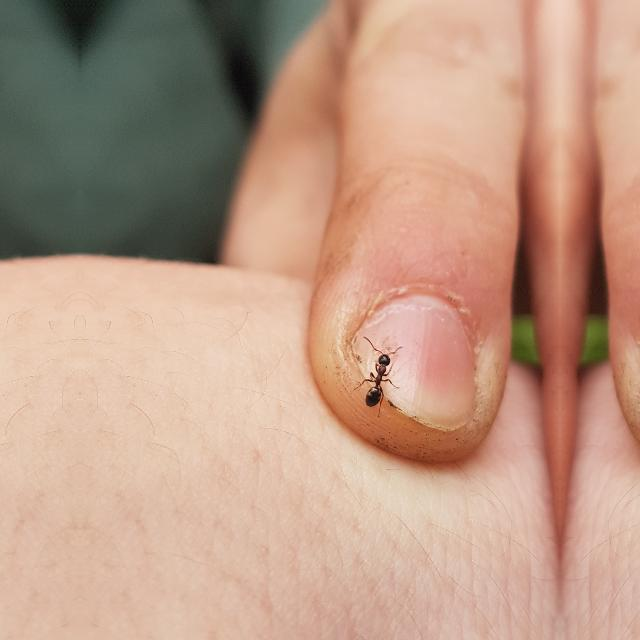Dolichoderus: (356, 333, 402, 415)
